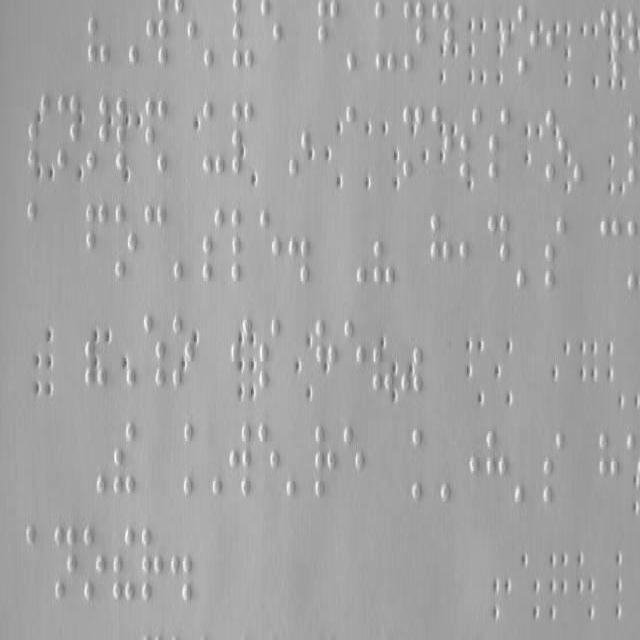braiile: (26, 196, 56, 284), (82, 200, 110, 289), (142, 198, 170, 286), (409, 423, 438, 501), (112, 201, 138, 283), (182, 419, 208, 501), (229, 206, 257, 282), (256, 416, 280, 504), (598, 215, 624, 296), (428, 210, 452, 296), (485, 428, 509, 514), (485, 211, 509, 296), (228, 416, 252, 500), (53, 520, 77, 604), (541, 426, 565, 508), (24, 521, 48, 603), (82, 524, 106, 606), (139, 524, 163, 606), (543, 214, 567, 294), (258, 314, 282, 394), (201, 101, 225, 179), (342, 316, 366, 394), (401, 2, 425, 78), (373, 0, 397, 76), (258, 206, 282, 282), (598, 428, 620, 510), (486, 107, 510, 182), (317, 2, 339, 82), (345, 104, 367, 184), (315, 422, 337, 502), (342, 424, 364, 504), (516, 1, 538, 79), (56, 94, 78, 172), (459, 104, 481, 180)
